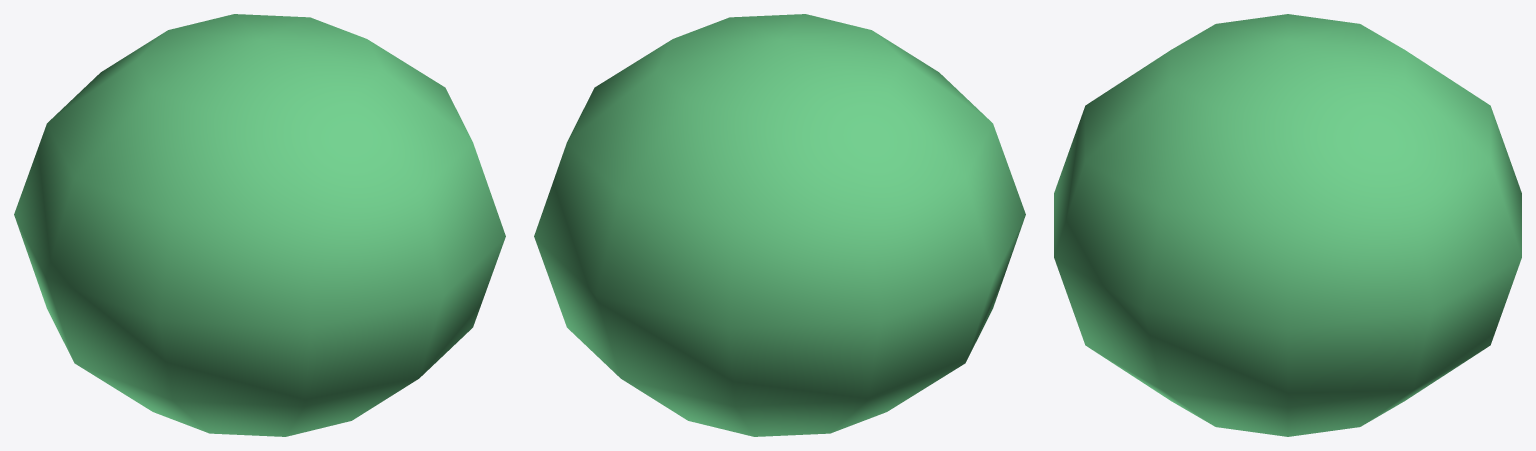
File: body.glb
3 renders of one model, left to right at view 1: azimuth 30°, elevation 25°; view 2: azimuth 150°, elevation 25°; view 3: azimuth 270°, elevation 25°, orthographic.
Visible parts, largest first — view 1: body; view 2: body; view 3: body.
Part boxes in pixels (x1,y1,x2,y2): body: [14, 14, 505, 436]; body: [534, 14, 1025, 436]; body: [1054, 14, 1521, 436].
Size of the model in its own units: 0.92 by 0.76 by 0.875.
